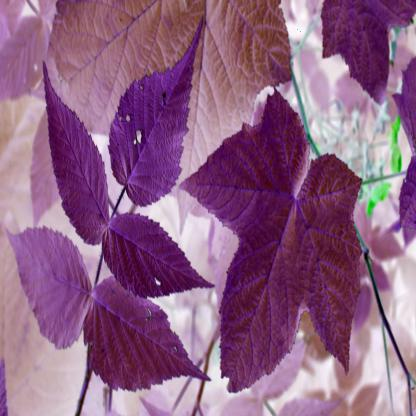Raspberry leaf: (182, 82, 362, 400), (110, 17, 203, 206), (88, 281, 213, 396), (39, 58, 112, 249), (101, 208, 215, 304)
